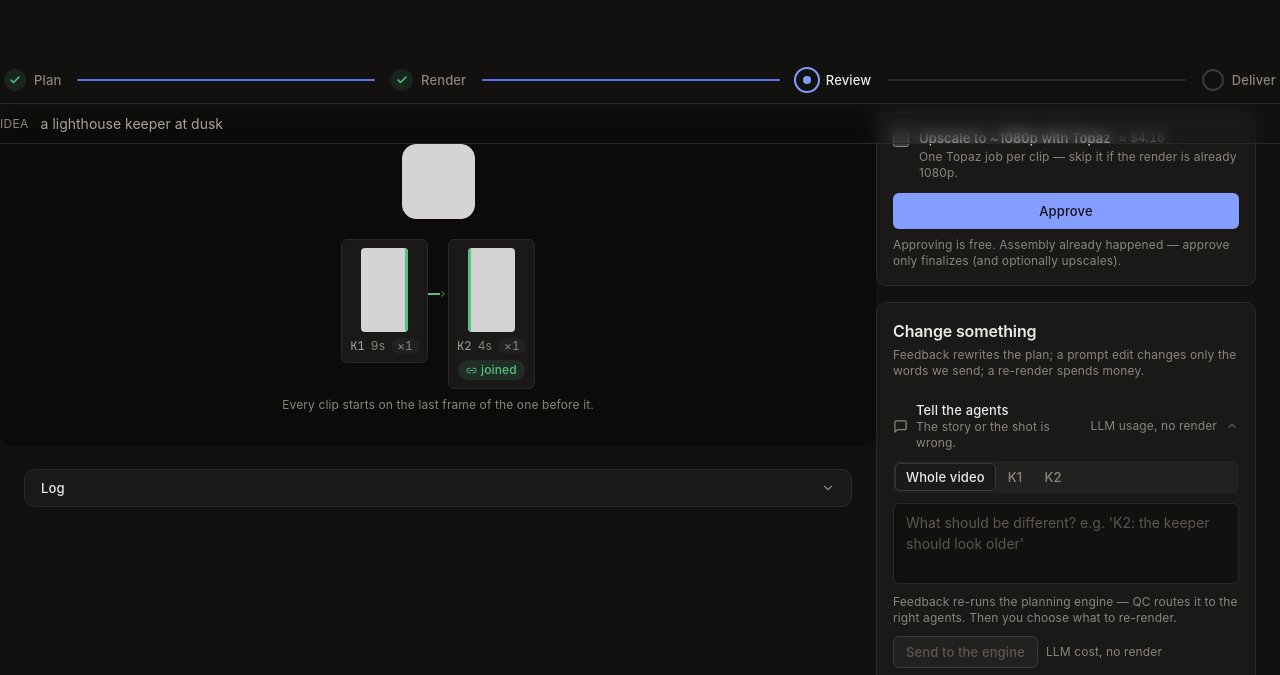
Test: PromptSheet › the byte readout is the API's own count against the API's own budget, and warns from 90%
The width and height of the screenshot is (1280, 675).
Expected: the element named "Review stage" is shown, [0, 112, 876, 445]
Click the button "K2 4s ×1 joined": (491, 314) [448, 239, 535, 389]
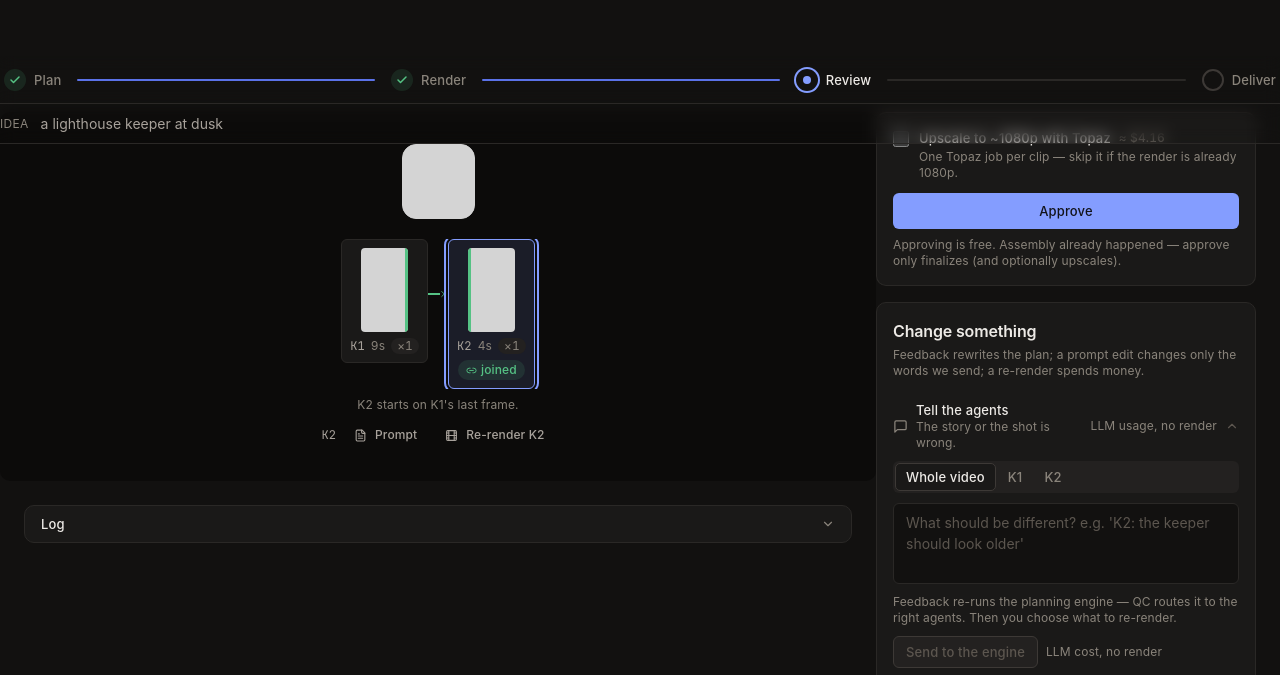
Click the button with aria-label "Prompt for K2": (386, 435) [344, 421, 427, 449]
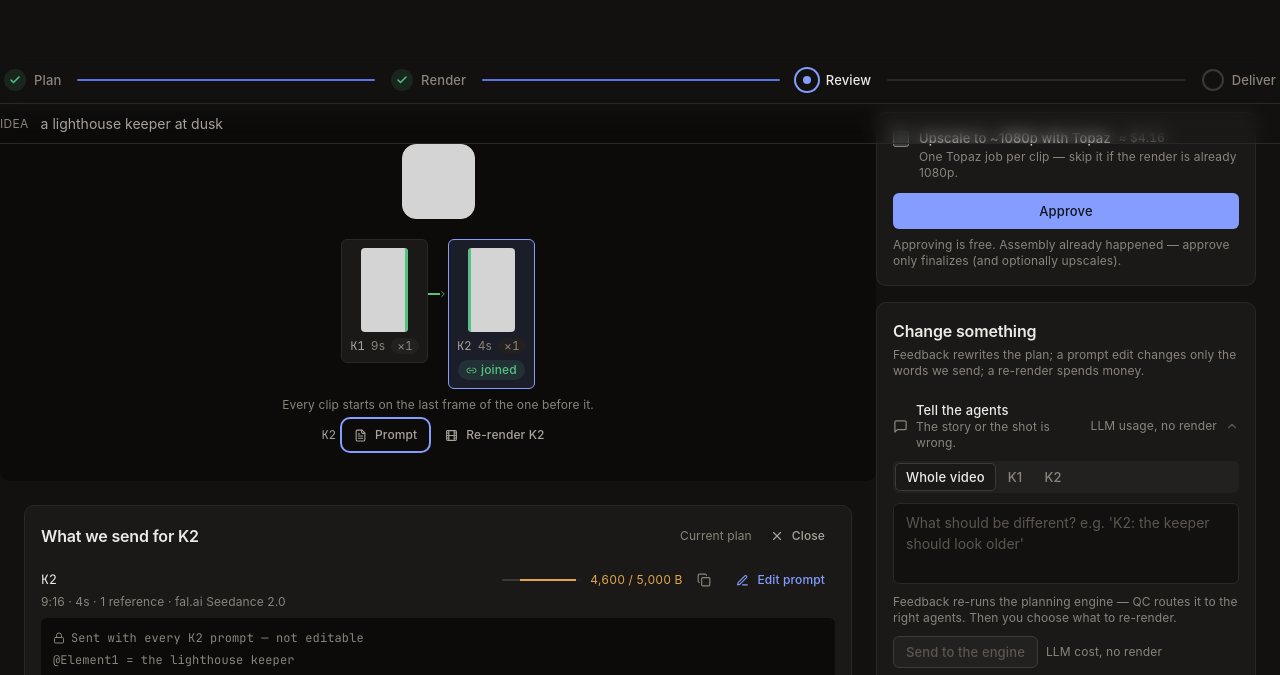
Expected: the text with test id "prompt-bytes-K2" reads "4,600 / 5,000 B", [590, 572, 682, 587]
